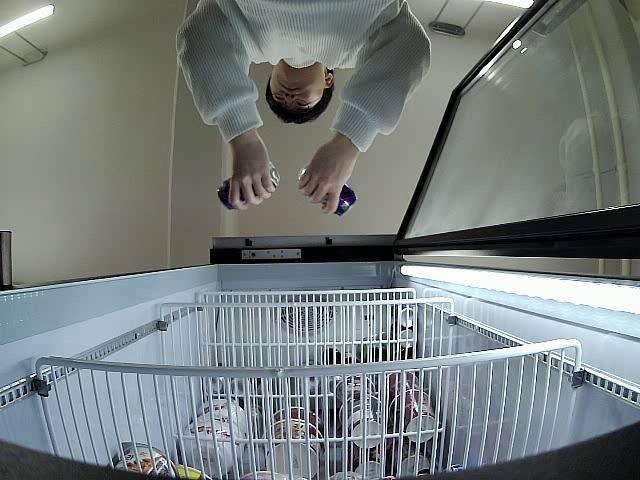14_welchsGrape: (216, 162, 280, 210), (299, 164, 356, 217)
